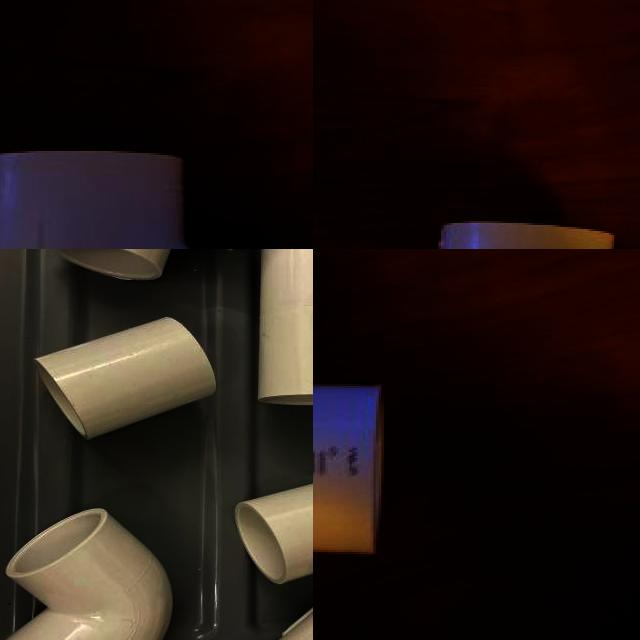L Joint: (4, 508, 176, 640), (0, 151, 195, 249)
T Joint: (256, 249, 313, 409)
